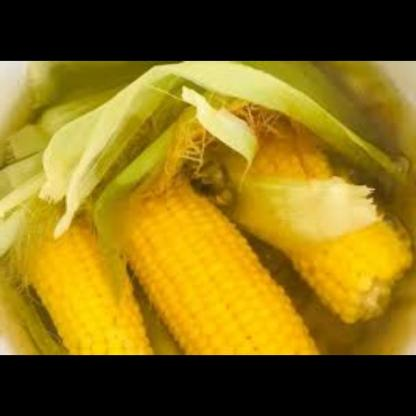corn: (118, 128, 330, 352), (221, 103, 410, 328), (11, 161, 166, 354)
